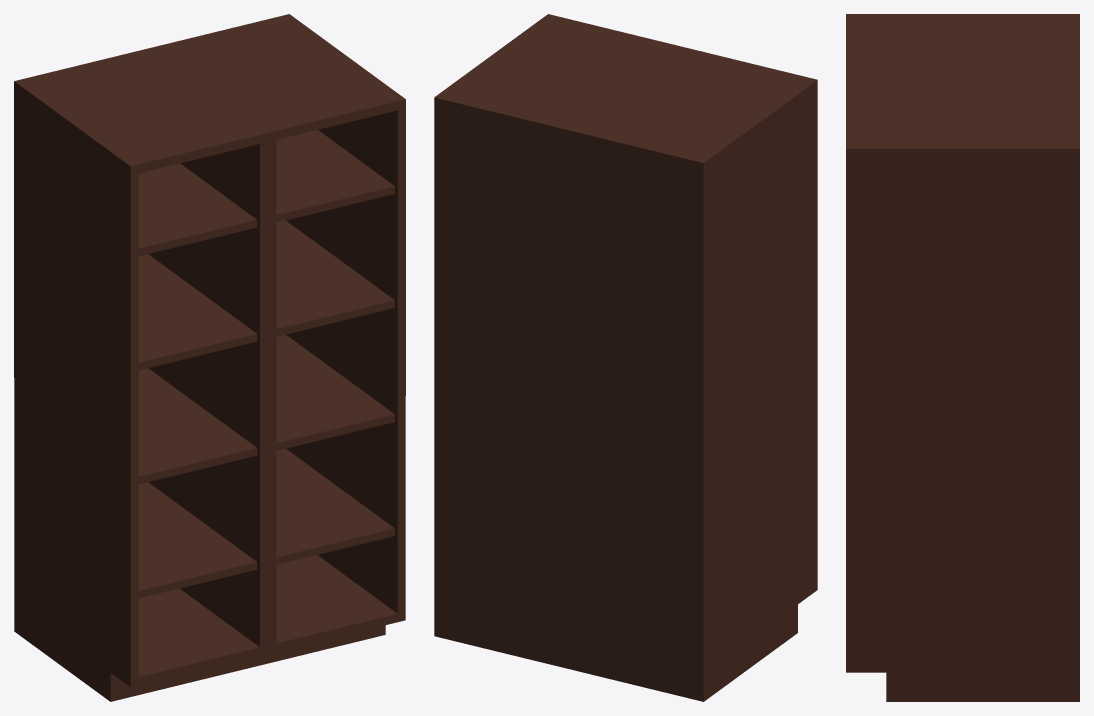
The model's file is OpenDoorTallCabinet1.glb.
3 views of the same model, side by side, from view 1: azimuth 30°, elevation 25°; view 2: azimuth 150°, elevation 25°; view 3: azimuth 270°, elevation 25° (orthographic). The views are drawn at different scales.
Parts seen in each view (by area): view 1: OpenDoorTallCabinet1; view 2: OpenDoorTallCabinet1; view 3: OpenDoorTallCabinet1.
Part boxes in pixels (x1,y1,x2,y2): OpenDoorTallCabinet1: [14, 14, 405, 701]; OpenDoorTallCabinet1: [434, 14, 817, 701]; OpenDoorTallCabinet1: [846, 14, 1079, 701].
Size of the model in its own units: 0.9371 by 1.79 by 0.6862.
